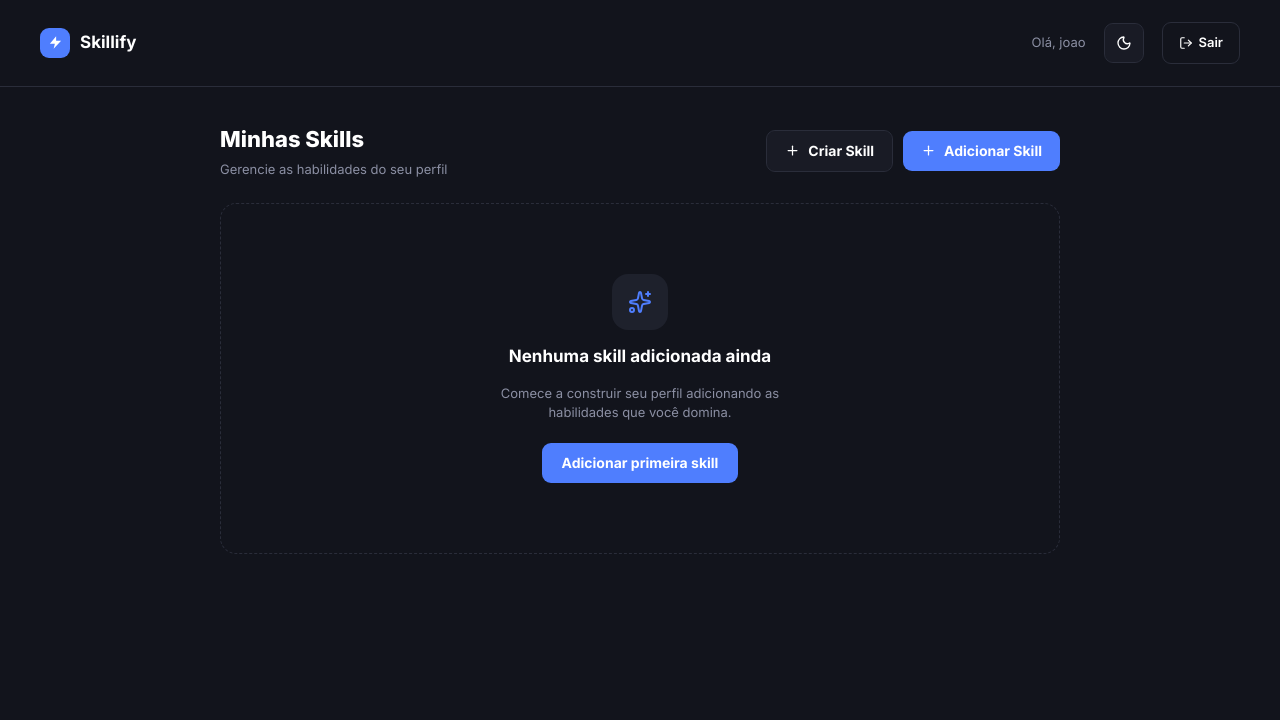
it: HomePage › shows the 'Criar Skill' button only for ADMIN and creates a new skill
The image size is (1280, 720).
Expected: the text "Nenhuma skill adicionada ainda" is shown, [509,344,771,370]
Click the button "Criar Skill".
click(830, 151)  # box [766,130,893,172]
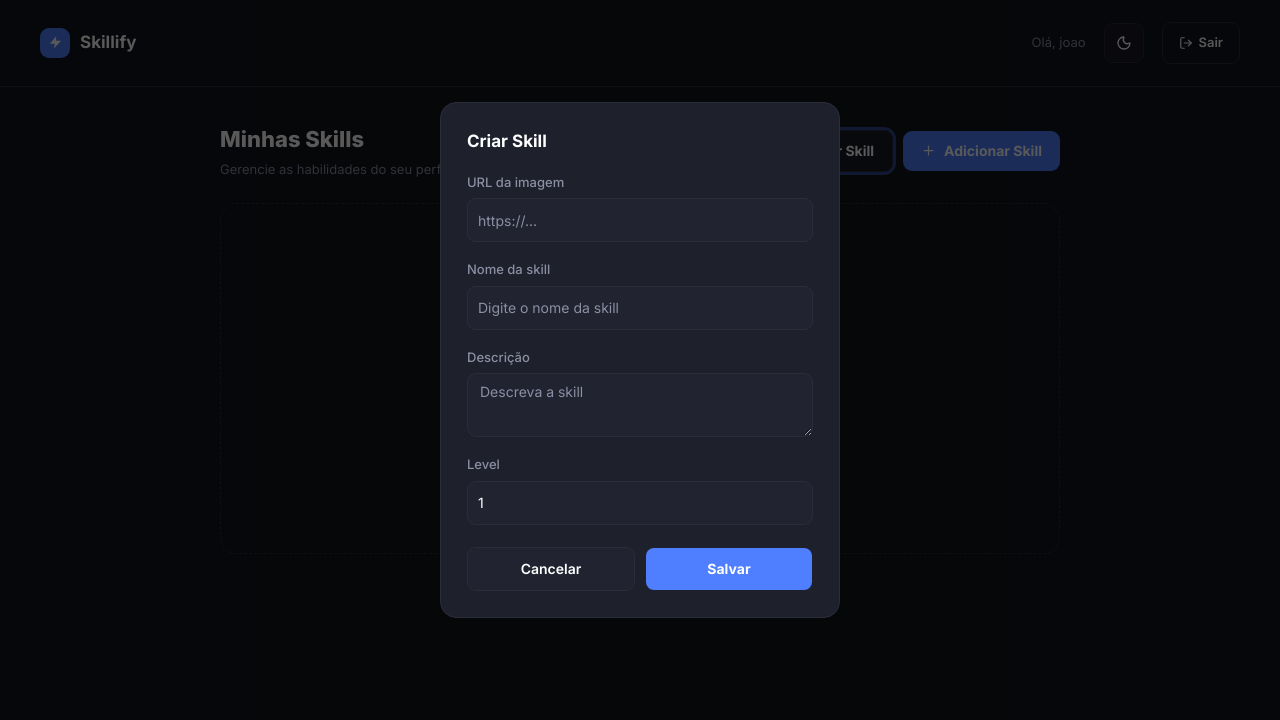
Type "Go" into the field with placeholder "Digite o nome da skill".
click(640, 308); type("Go")  # box [467,286,813,330]
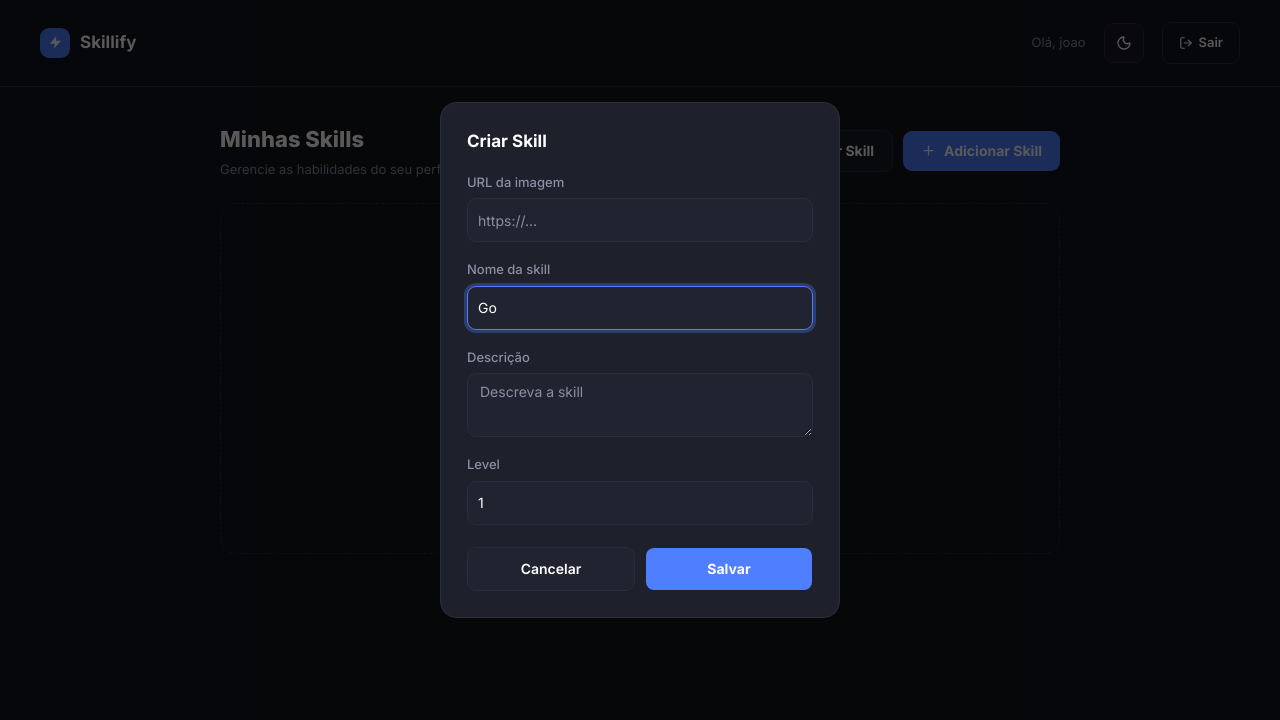
Type "Backend" into the text box with placeholder "Descreva a skill".
click(640, 405); type("Backend")  # box [467,373,813,437]
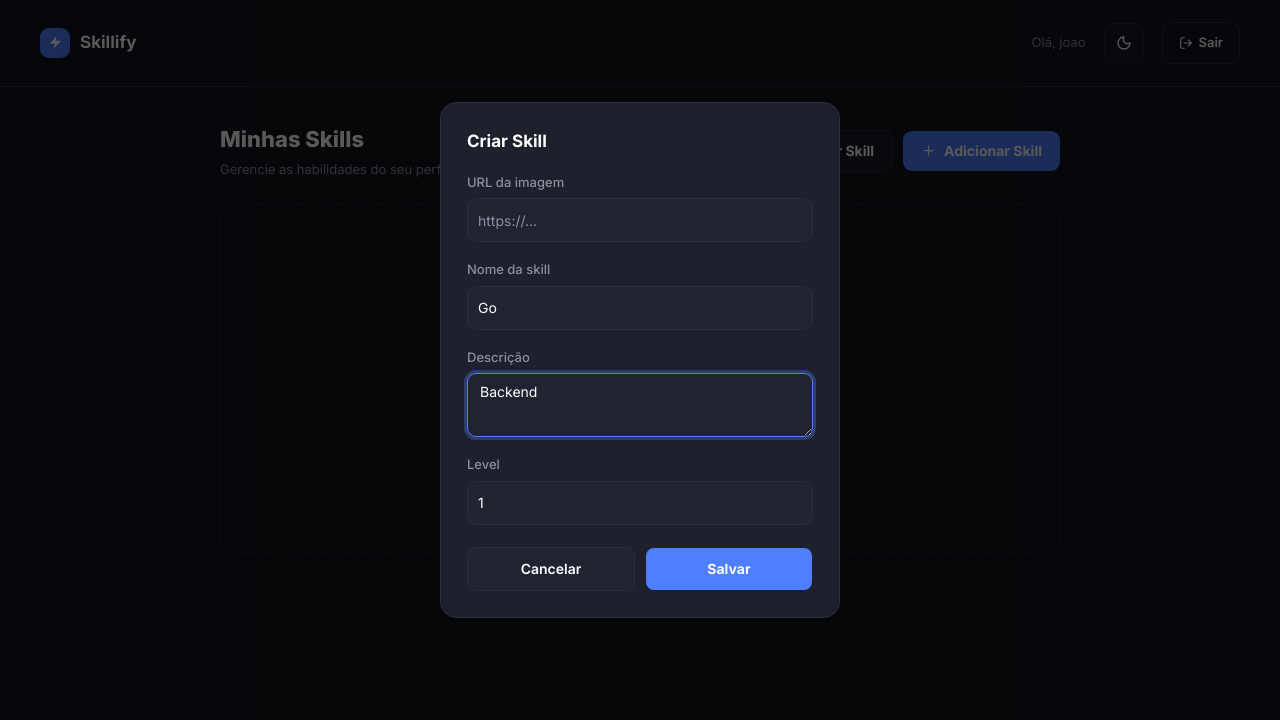
Replace the text in the number field labelled "Level" with "2" at (640, 503), box [467,481,813,525]
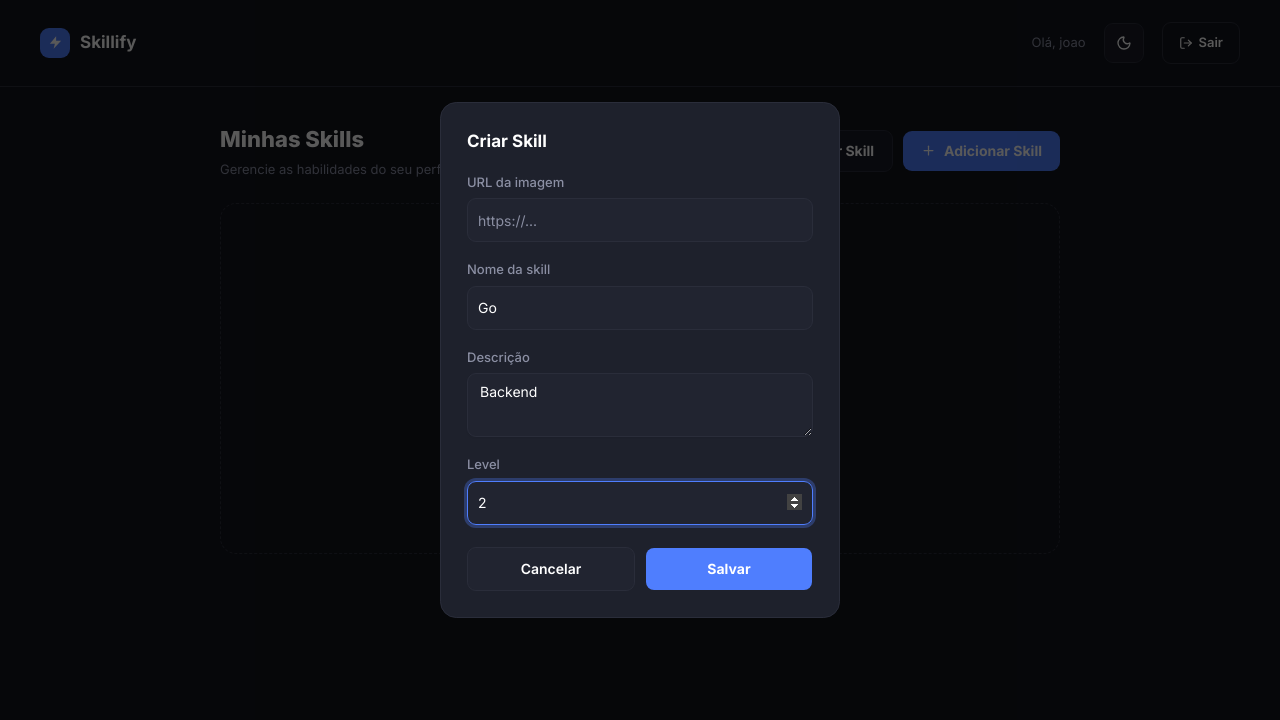
Click the button "Salvar".
click(729, 569)  # box [645,547,813,591]
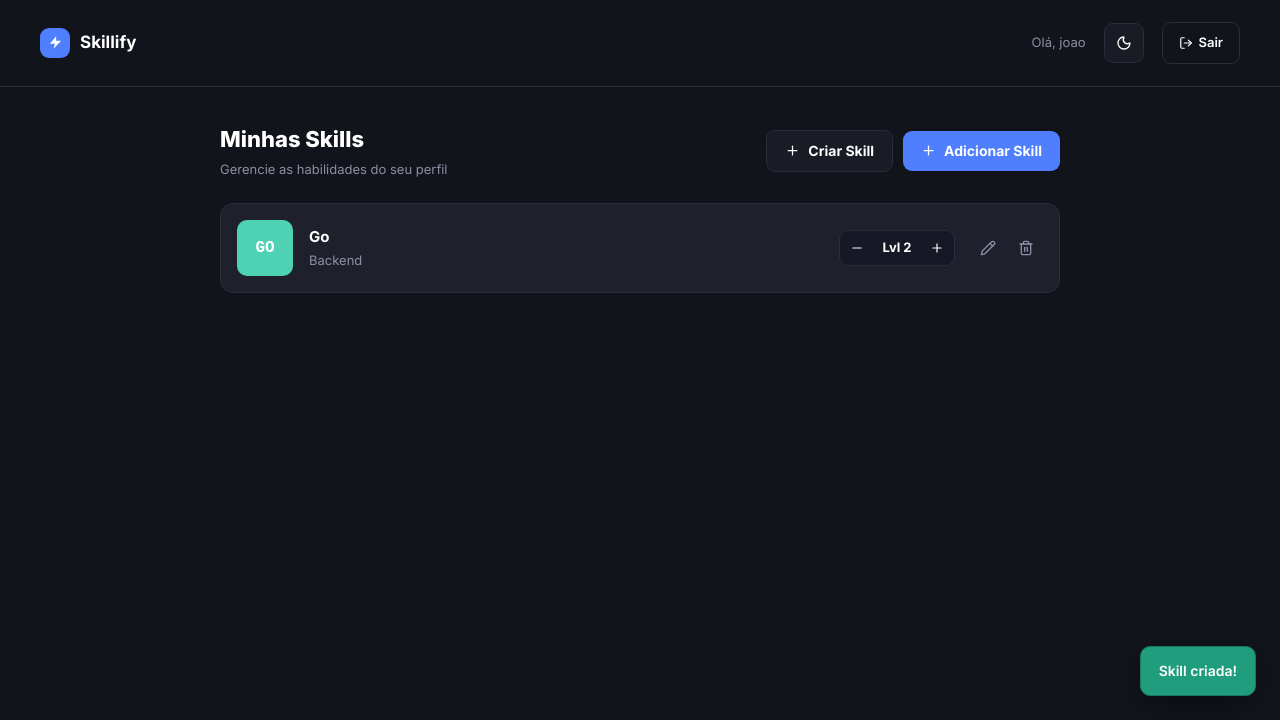
Now the text "Skill criada!" is shown, box [1140,646,1256,696]
